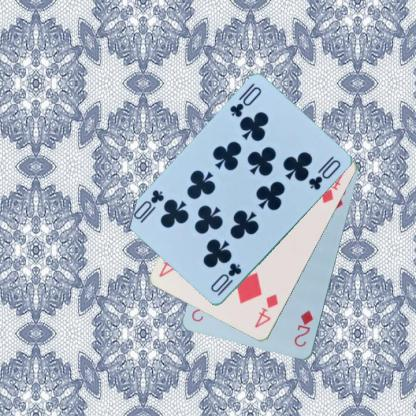10c: (208, 260, 243, 298), (227, 84, 263, 119)
2d: (292, 308, 314, 348)
4d: (252, 292, 280, 329)
